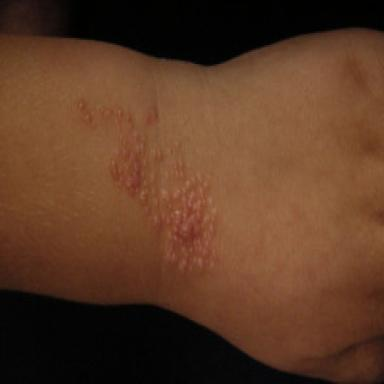Molluscum-Contagiosum: (75, 99, 220, 281)
